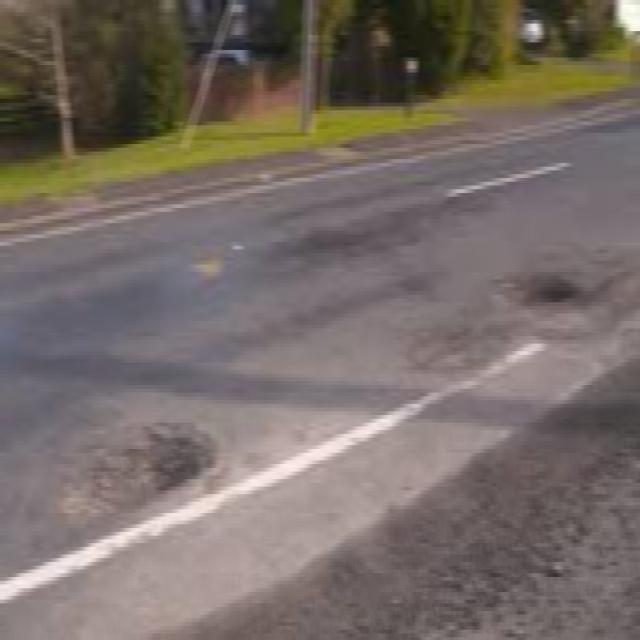Pothole: (46, 408, 230, 532), (485, 248, 631, 335)
